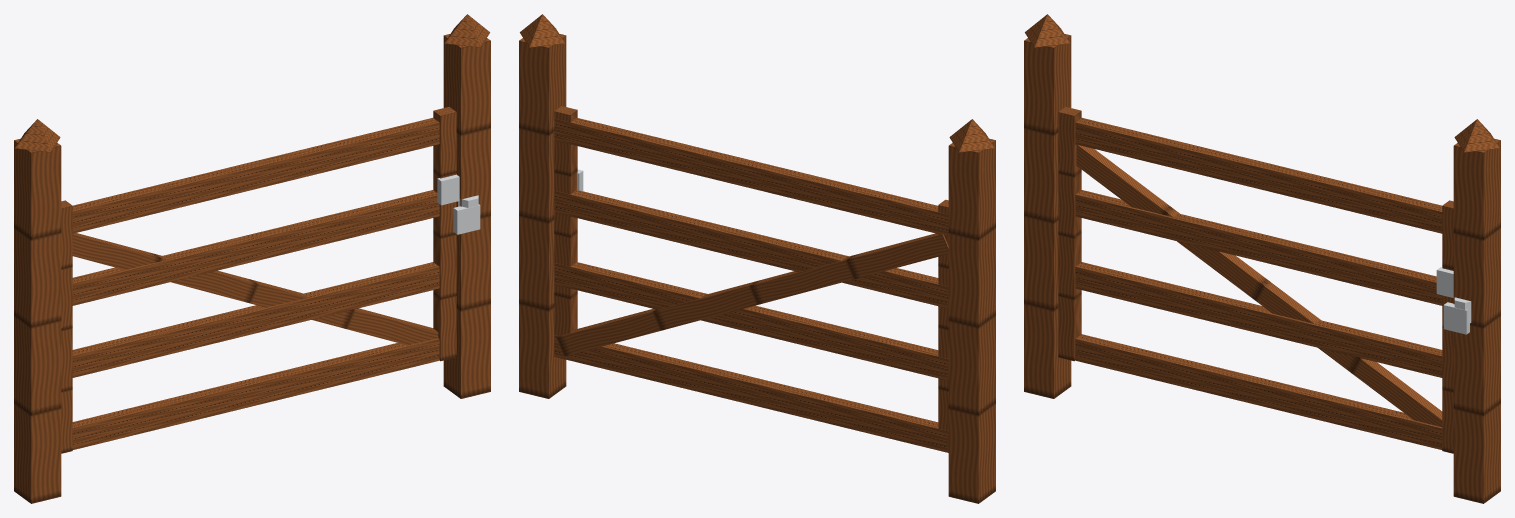
File: allotments-and-community-garden-site-gate-0bd48105__35163.glb
3 renders of one model, left to right at view 1: azimuth 30°, elevation 25°; view 2: azimuth 150°, elevation 25°; view 3: azimuth 330°, elevation 25°, orthographic.
Parts seen in each view (by area): view 1: gate/timber, site-gate-timber, gate/galv, site-gate-galv; view 2: gate/timber, site-gate-timber; view 3: gate/timber, site-gate-timber, gate/galv, site-gate-galv.
Part boxes in pixels (box(x1,y1,x2,y2)): gate/timber: box(61, 107, 456, 453); site-gate-timber: box(14, 14, 490, 503); gate/galv: box(437, 174, 478, 207); site-gate-galv: box(453, 204, 480, 234); gate/timber: box(554, 106, 948, 452); site-gate-timber: box(519, 14, 995, 503); gate/timber: box(1058, 107, 1453, 453); site-gate-timber: box(1024, 14, 1500, 503); gate/galv: box(1436, 267, 1471, 323); site-gate-galv: box(1443, 302, 1469, 334).
Size of the model in its own units: 2.07 by 1.56 by 0.1999.
Materials: 2 (1 with a texture image).
